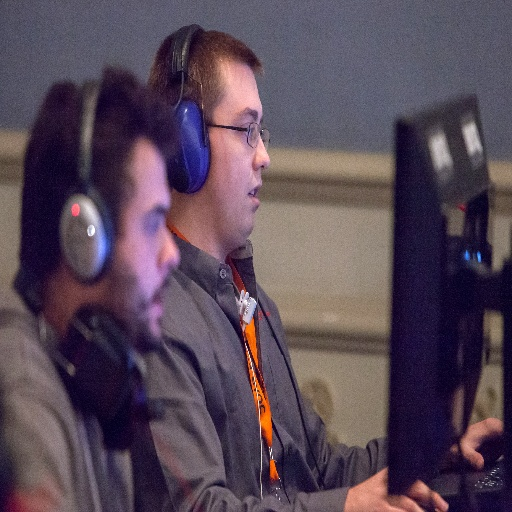hand: (345, 466, 446, 511), (441, 415, 505, 469)
